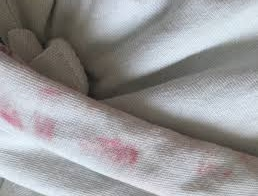lipstick: (79, 138, 140, 158), (198, 161, 243, 175), (30, 115, 56, 138), (1, 108, 23, 131), (35, 84, 72, 95)
